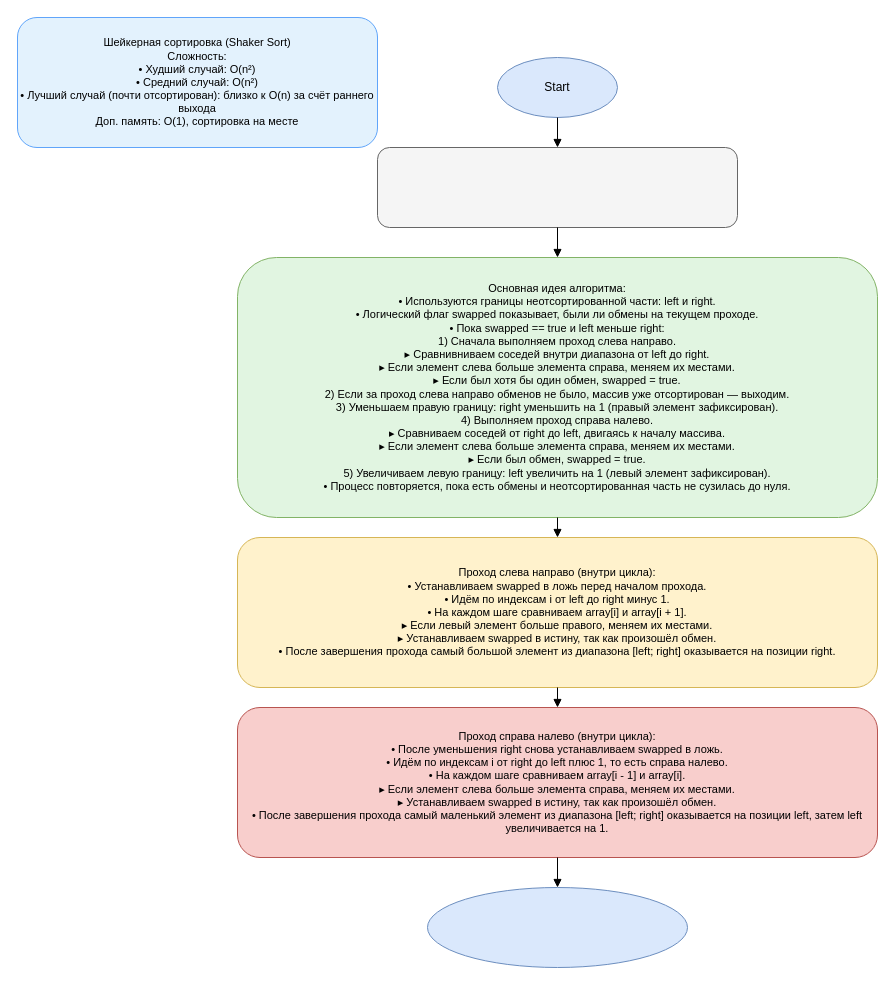
This 895x985 diagram has some shape labels left out. The shapes that lost their labels are listed below. From the top down, each one's centre as x and y in pixels, then its label:
At point (557, 187): "Вход: массив int[] array".
At point (557, 927): "Finish".
